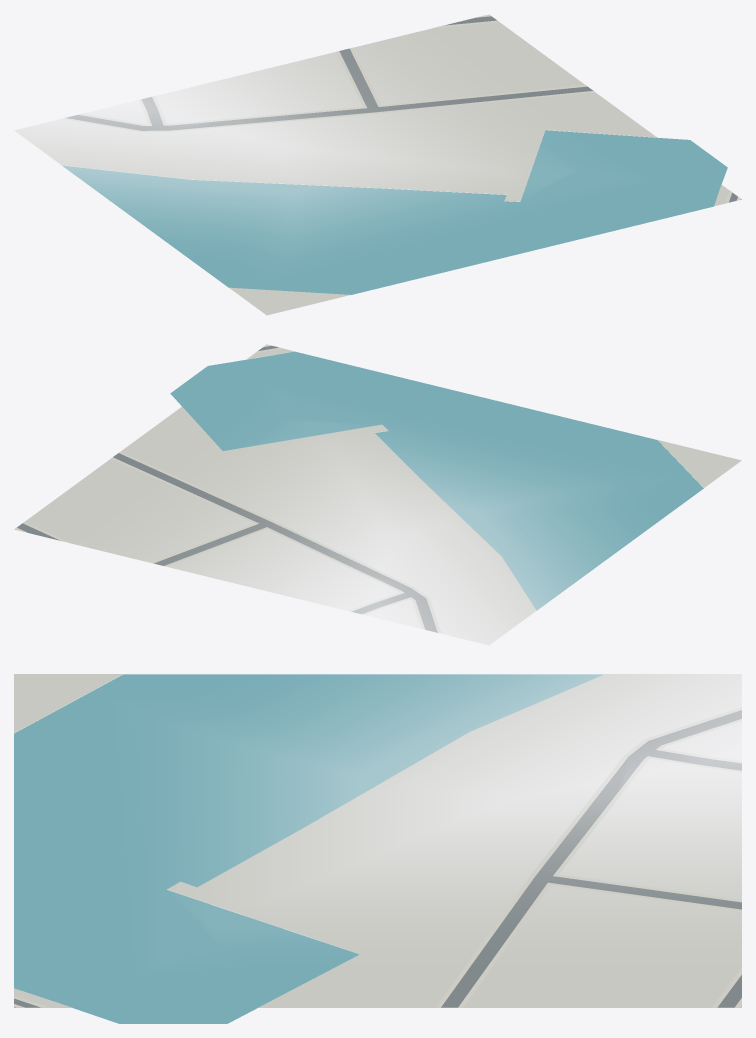
3 views of the same model, one above another, from view 1: azimuth 30°, elevation 25°; view 2: azimuth 150°, elevation 25°; view 3: azimuth 270°, elevation 25° (orthographic). The views are drawn at different scales.
Visible parts, largest first — view 1: city; view 2: city; view 3: city.
Boxes of the visible parts, x1=… form: city: x1=15, y1=14, x2=741, y2=315; city: x1=14, y1=344, x2=741, y2=644; city: x1=14, y1=674, x2=741, y2=1023.
Bounding box in the file's own units: 500 × 0.4 × 440.
